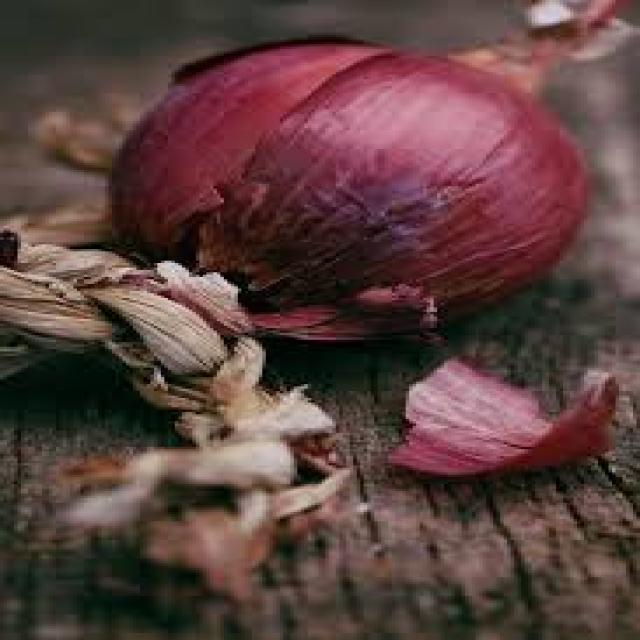rotten: (83, 0, 629, 352)
